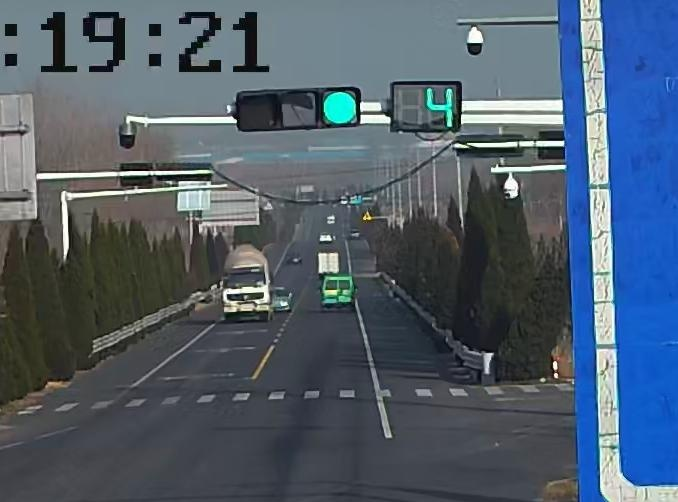green: (320, 88, 359, 126)
greentime: (424, 84, 458, 127)
